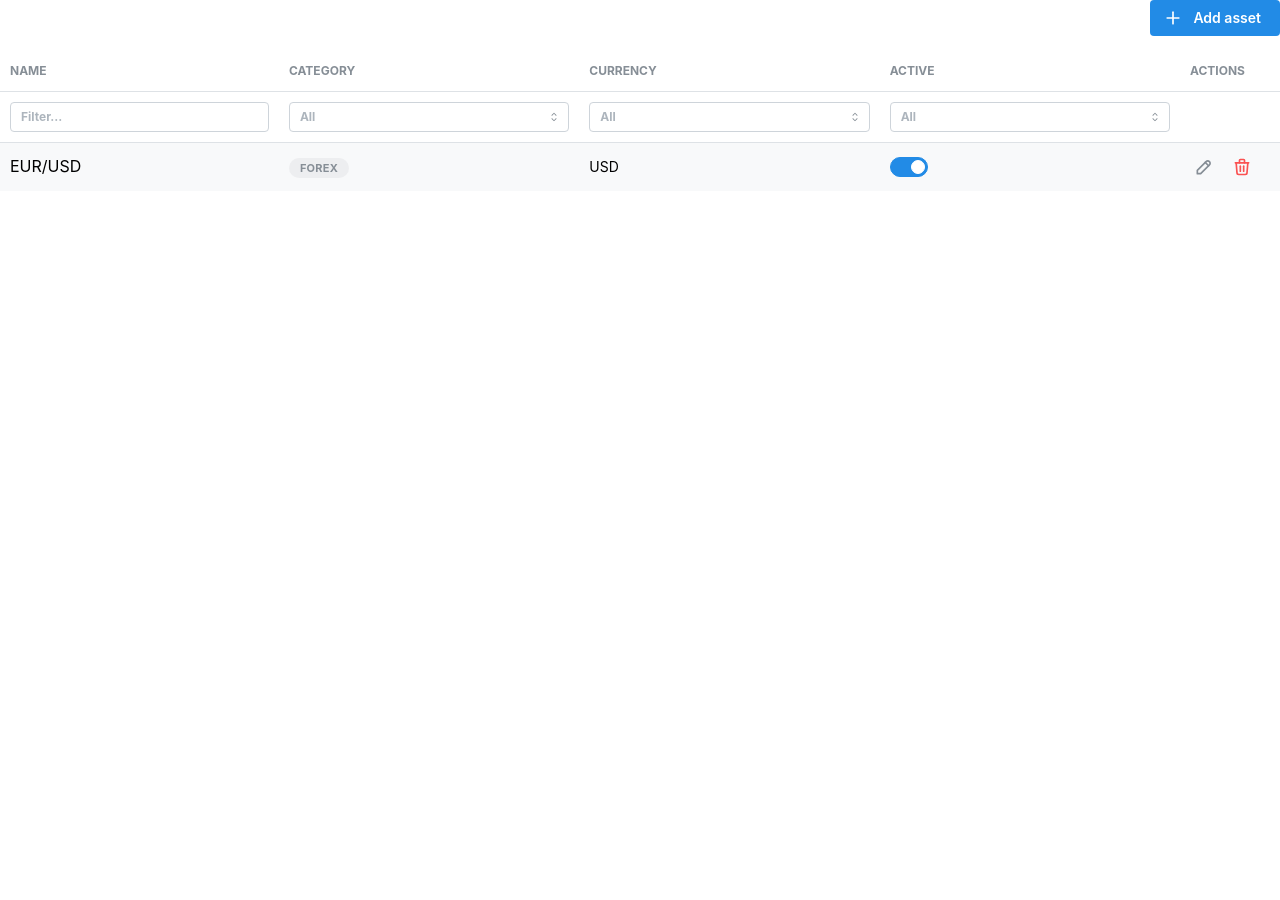
it: AssetsTab › guarded delete — trade_count == 0 › opens the modal with a Delete button and issues DELETE on confirm
Expected: the text "EUR/USD" is shown, [10,156,81,176]
# Open the delete modal.
Click the button named "Delete EUR/USD" at (1242, 167), box [1228,153,1256,181]
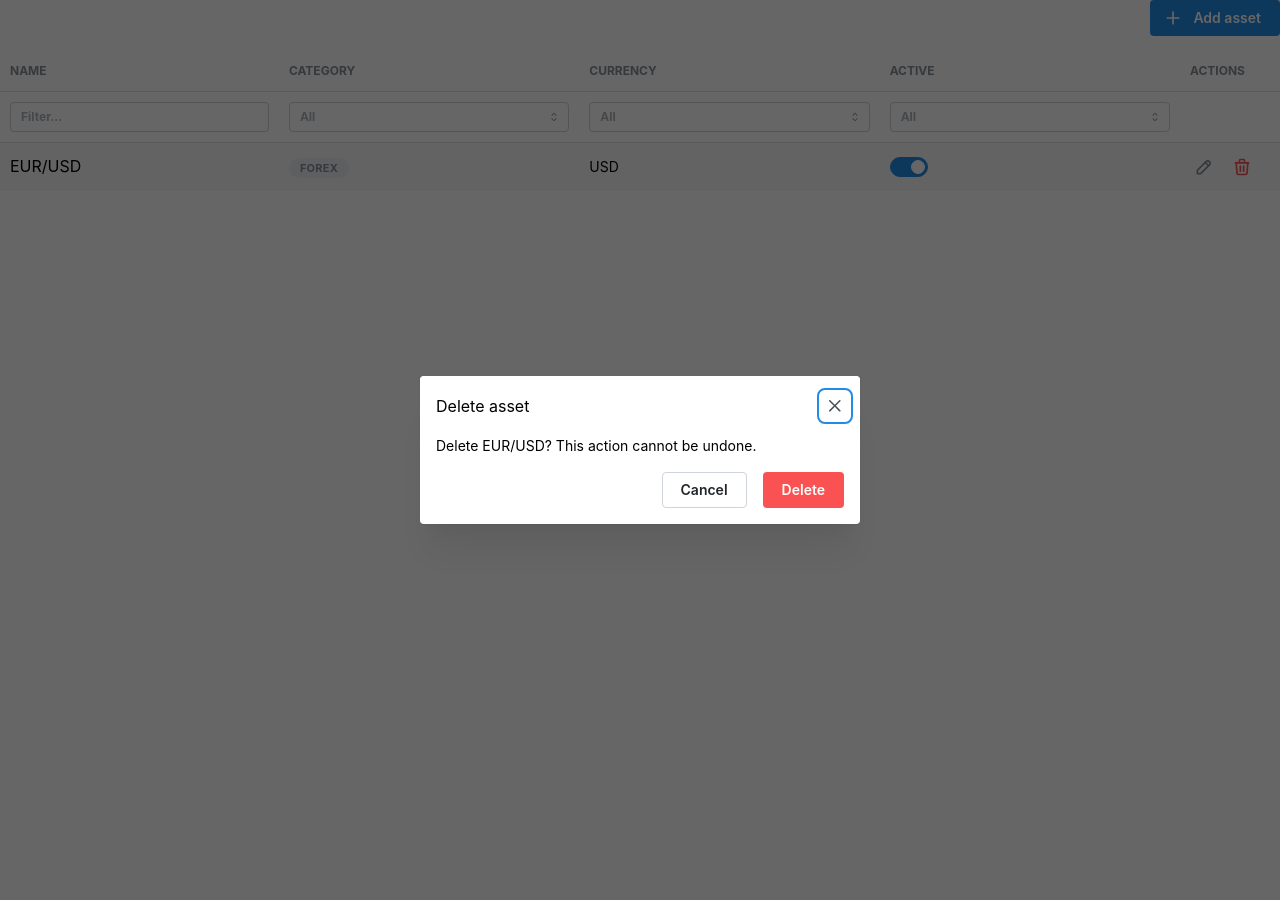
Expected: the text "Delete EUR/USD? This action cannot be undone." is shown, [436,437,756,454]
Expected: the button "Delete" is shown
Click the button "Delete" at (803, 490), box [763,472,844,508]
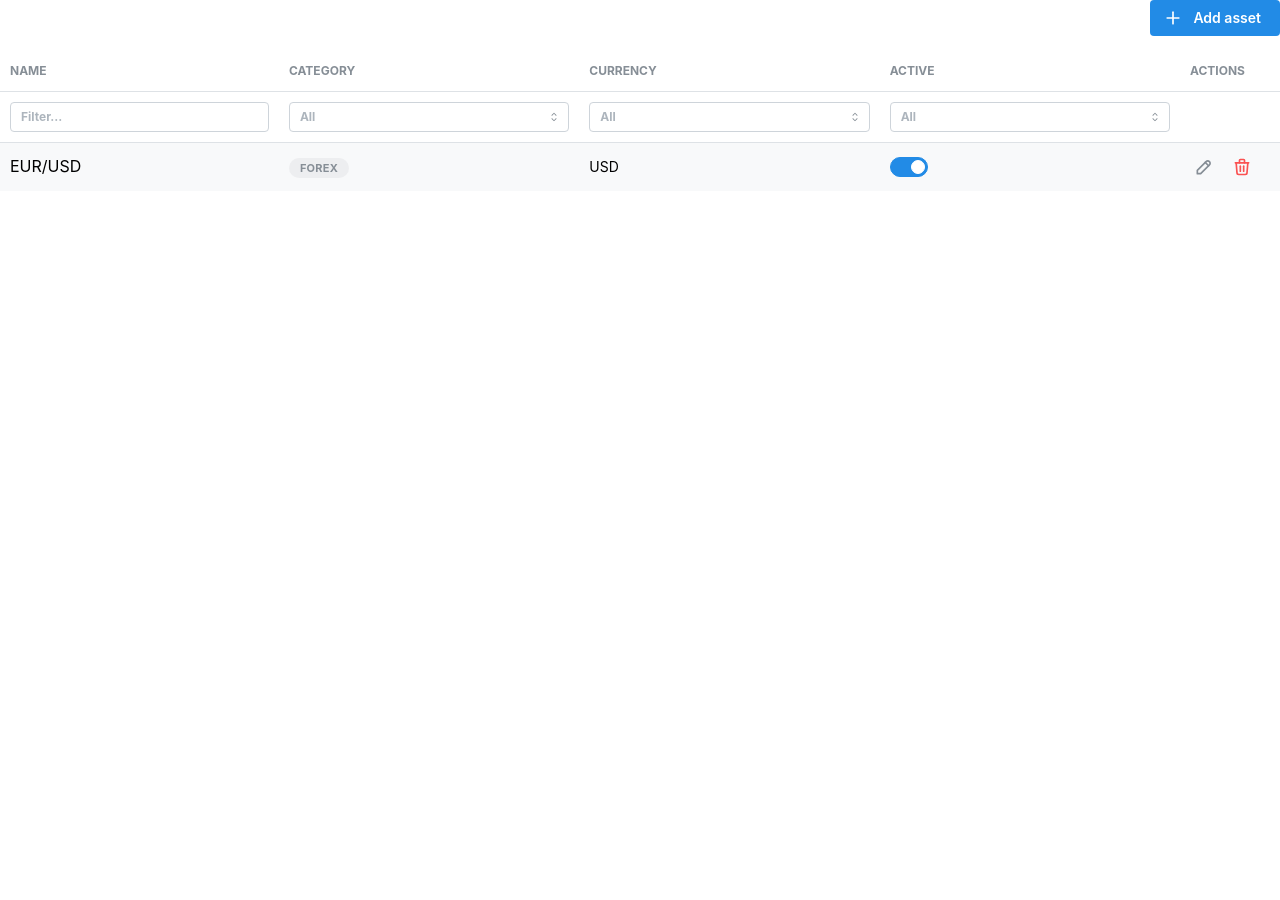
Expected: the dialog is gone
